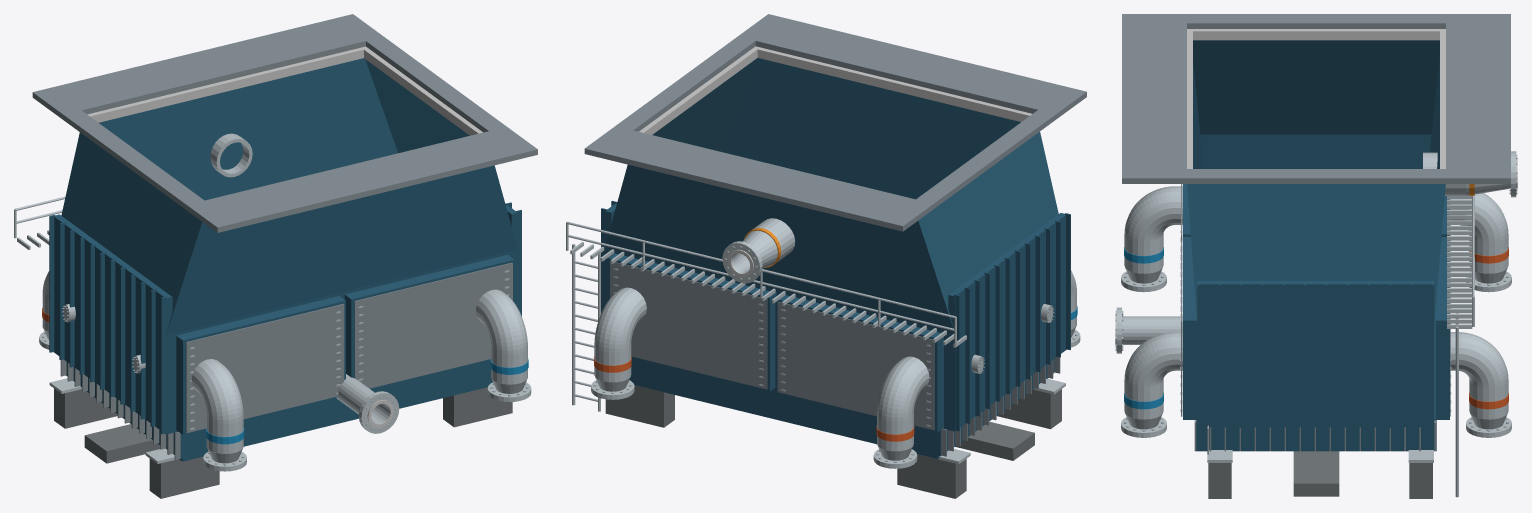
The model's file is body.obj.
3 renders of one model, left to right at view 1: azimuth 30°, elevation 25°; view 2: azimuth 150°, elevation 25°; view 3: azimuth 270°, elevation 25°, orthographic. The views are drawn at different scales.
Bounding box in the file's own units: 8.32 × 6 × 7.
